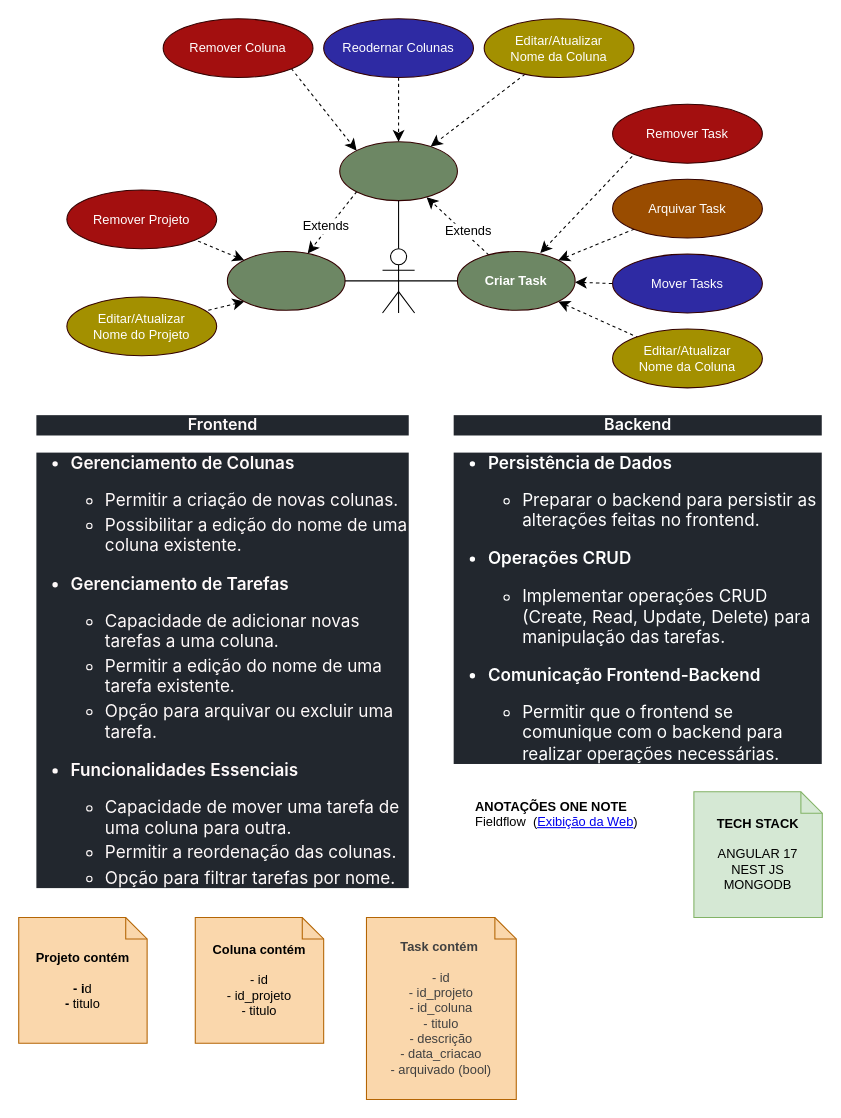
Image size: 841x1118. Some labels were removed from this diagram. The shapes that lost their labels are listed below. From the top down, each one's centre as x and y in pixels, then its label:
the point at 398,171: Criar colunas
the point at 285,280: Criar Projeto
the point at 398,280: Usuário
